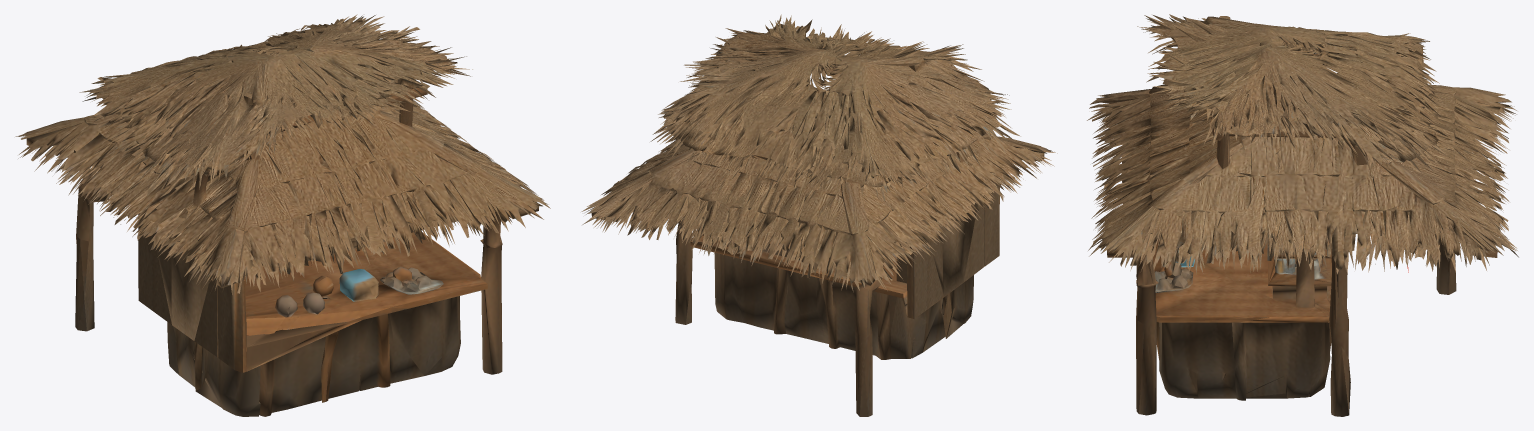
The model's file is quiosque-de-orla__01a163bc.glb.
The picture shows the model from 3 angles, left to right: view 1: azimuth 30°, elevation 25°; view 2: azimuth 150°, elevation 25°; view 3: azimuth 270°, elevation 25°; orthographic projection. The views are drawn at different scales.
Visible parts, largest first — view 1: quiosque-de-orla__01a163bc; view 2: quiosque-de-orla__01a163bc; view 3: quiosque-de-orla__01a163bc.
Boxes of the visible parts, x1,y1,x2,y2 form: quiosque-de-orla__01a163bc: (15,14,550,416); quiosque-de-orla__01a163bc: (581,14,1057,416); quiosque-de-orla__01a163bc: (1087,14,1518,416).
Size of the model in its own units: 3.87 by 3.2 by 4.07.
Materials: 1 (1 with a texture image).
